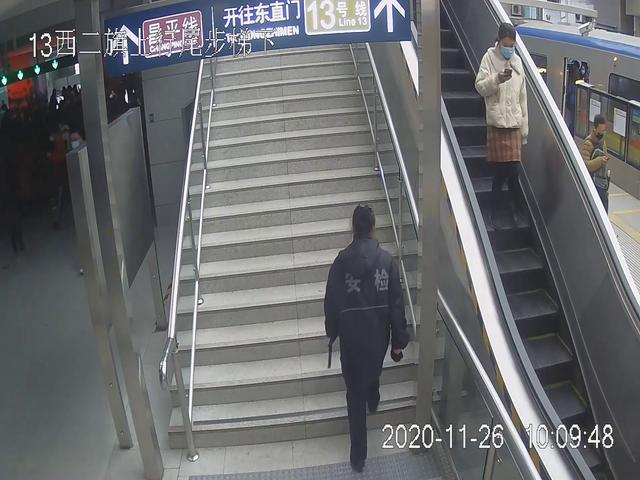person: (322, 200, 412, 472), (472, 16, 528, 233)
